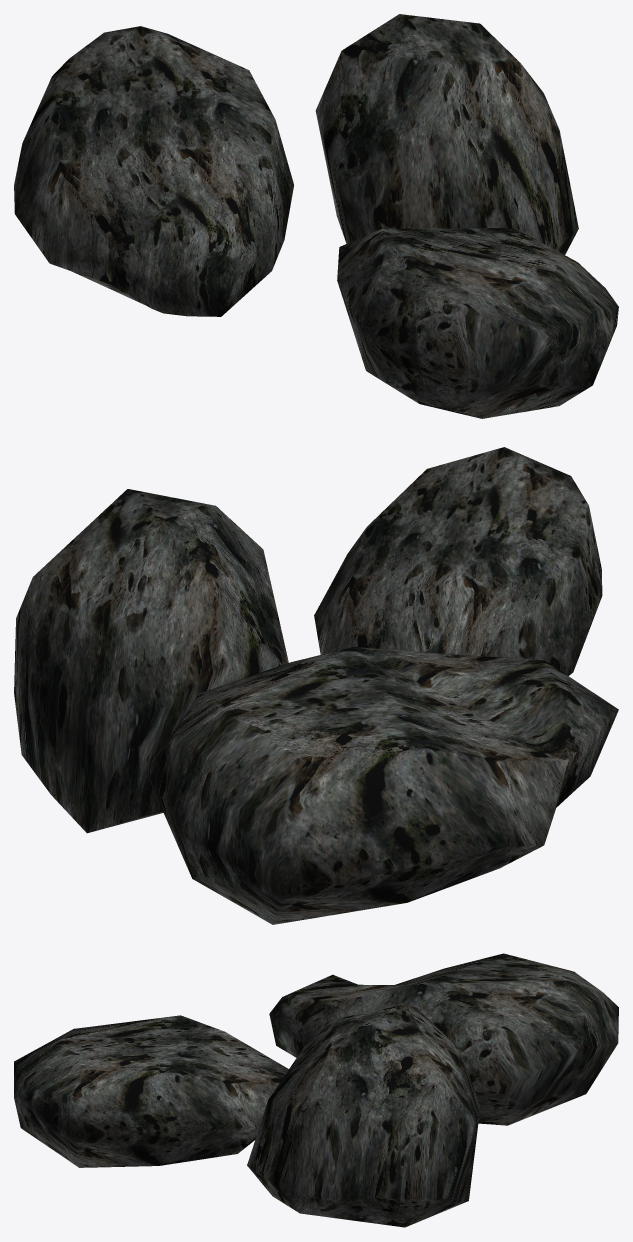
The model's file is rock_scorched_medium_l0.fbx.
The picture shows the model from 3 angles, top to bottom: view 1: azimuth 30°, elevation 25°; view 2: azimuth 150°, elevation 25°; view 3: azimuth 270°, elevation 25°; orthographic projection. The views are drawn at different scales.
Parts seen in each view (by area): view 1: mesh_node; view 2: mesh_node; view 3: mesh_node.
Part boxes in pixels (x1=…): mesh_node: x1=14, y1=14, x2=618, y2=418; mesh_node: x1=14, y1=447, x2=618, y2=924; mesh_node: x1=14, y1=953, x2=618, y2=1227.
Bounding box in the file's own units: 5.71 × 2.86 × 8.08.
Materials: 1 (1 with a texture image).
